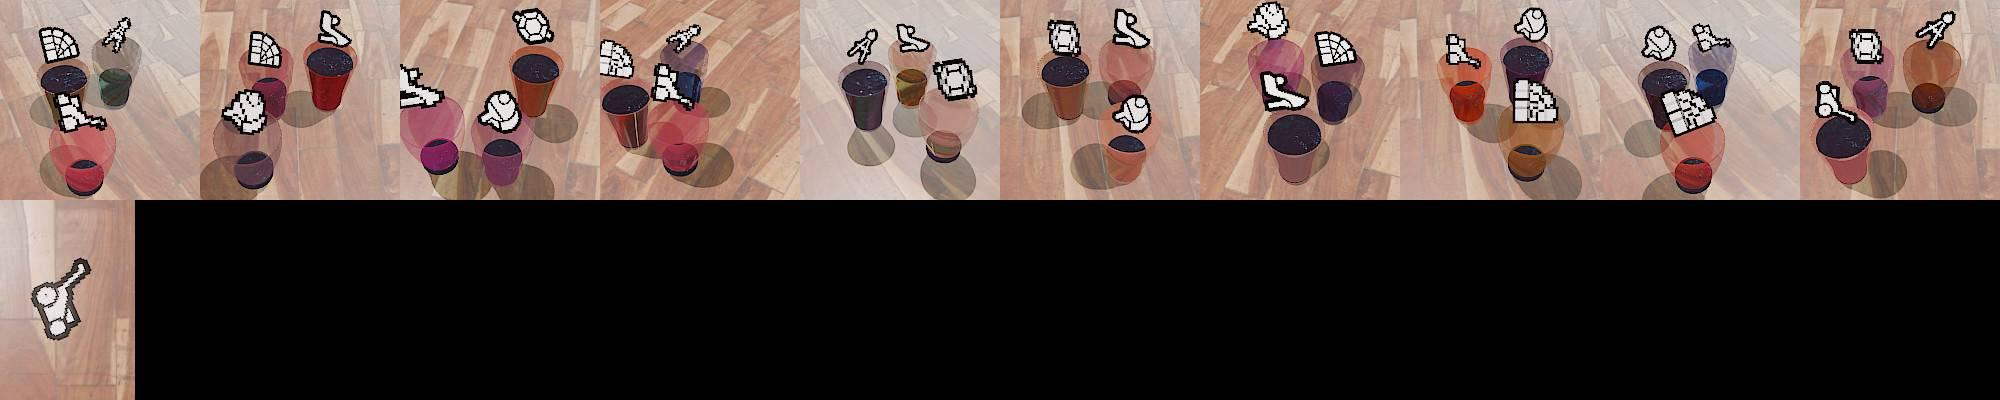icon: (28, 257, 92, 341), (1662, 87, 1717, 136), (54, 90, 108, 135), (219, 87, 269, 135), (652, 62, 703, 110), (1513, 78, 1560, 125), (399, 61, 445, 110), (931, 56, 978, 102), (1261, 69, 1311, 112), (478, 89, 522, 134), (1815, 80, 1857, 125), (1913, 9, 1957, 51), (1246, 1, 1291, 41), (1111, 92, 1152, 134), (1111, 8, 1151, 50), (38, 25, 80, 65), (511, 8, 555, 46), (1315, 29, 1357, 66), (246, 29, 284, 69), (598, 38, 635, 79), (1046, 17, 1083, 56), (1511, 6, 1548, 42), (318, 9, 351, 48), (1642, 25, 1677, 61), (1848, 28, 1884, 64), (895, 23, 934, 56), (1691, 22, 1731, 54), (1444, 32, 1478, 68), (847, 27, 879, 65), (101, 17, 133, 54), (670, 23, 703, 48)
